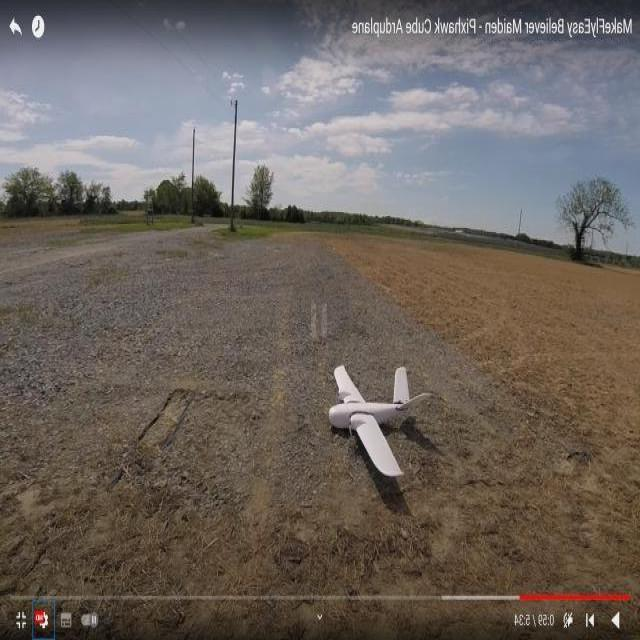UAV: (306, 356, 436, 478)
